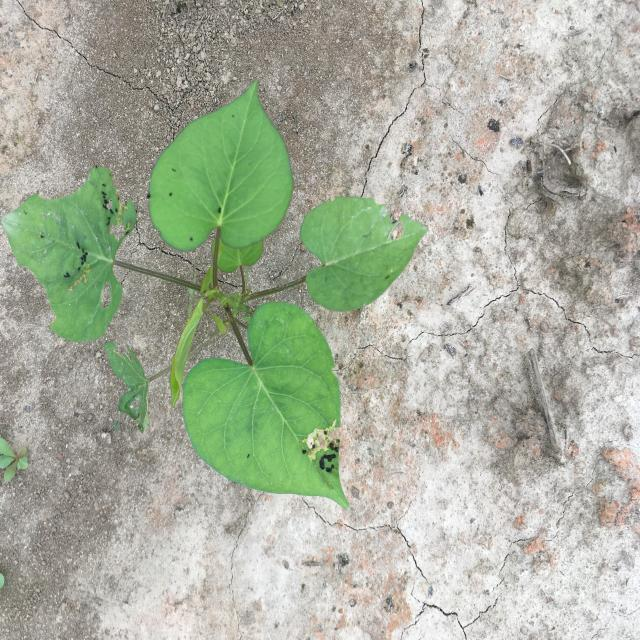Carpetweed: (0, 436, 29, 484)
MorningGlory: (0, 79, 429, 511)
